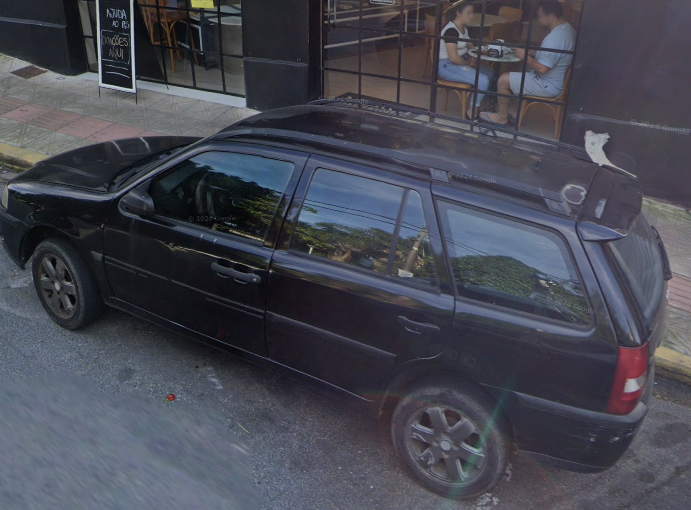car: (4, 93, 661, 498)
